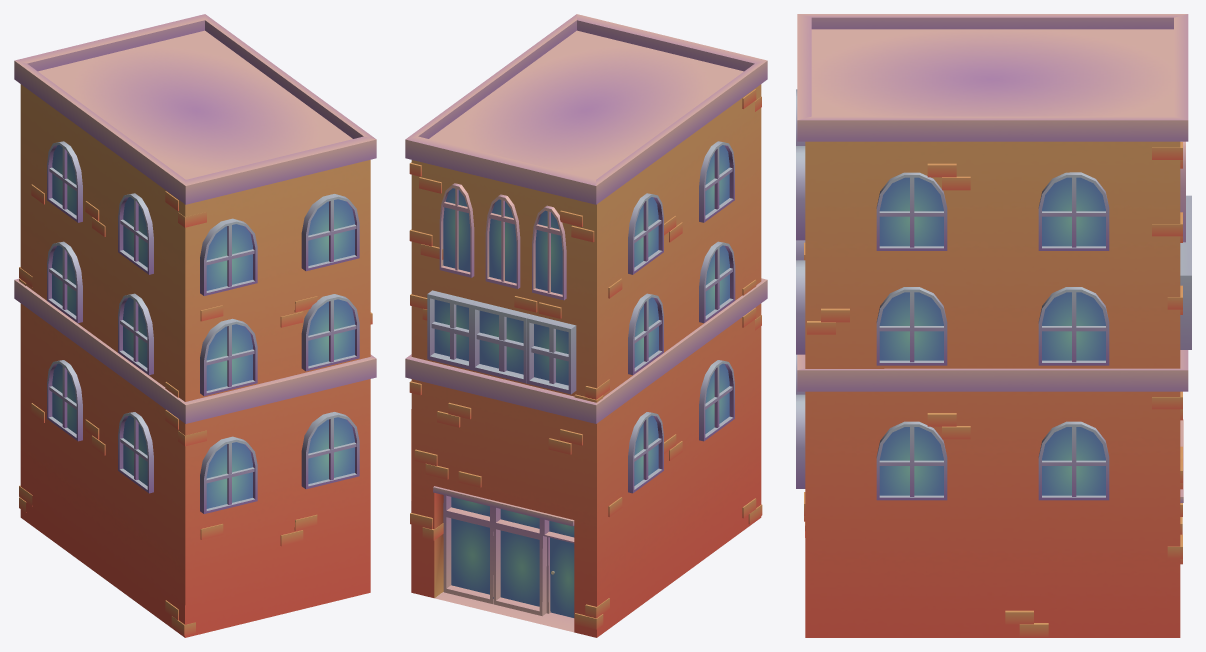
3 views of the same model, side by side, from view 1: azimuth 30°, elevation 25°; view 2: azimuth 150°, elevation 25°; view 3: azimuth 270°, elevation 25° (orthographic). The views are drawn at different scales.
Parts seen in each view (by area): view 1: SM_4F_07; view 2: SM_4F_07; view 3: SM_4F_07.
Part boxes in pixels (bbox=[...]): SM_4F_07: bbox=[14, 14, 376, 637]; SM_4F_07: bbox=[405, 14, 767, 637]; SM_4F_07: bbox=[796, 14, 1191, 637].
Bounding box in the file's own units: 6.01 × 9.26 × 13.41.
